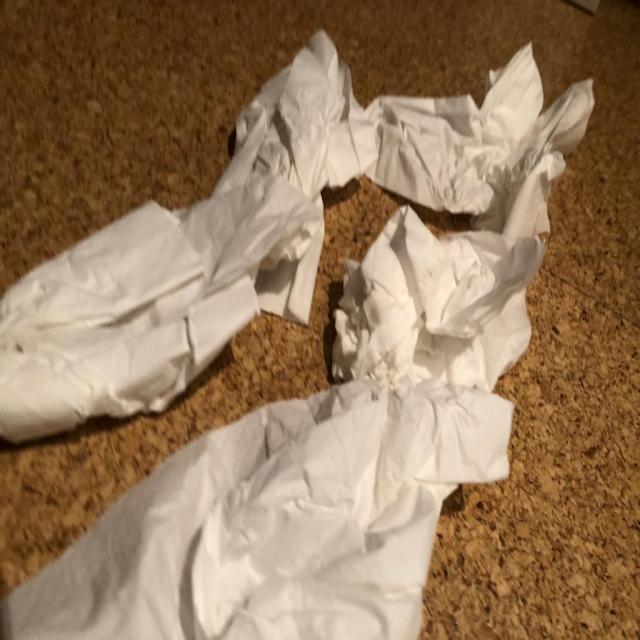kitchen paper: (0, 32, 375, 454), (0, 387, 517, 640), (327, 143, 577, 385), (366, 36, 600, 222)
